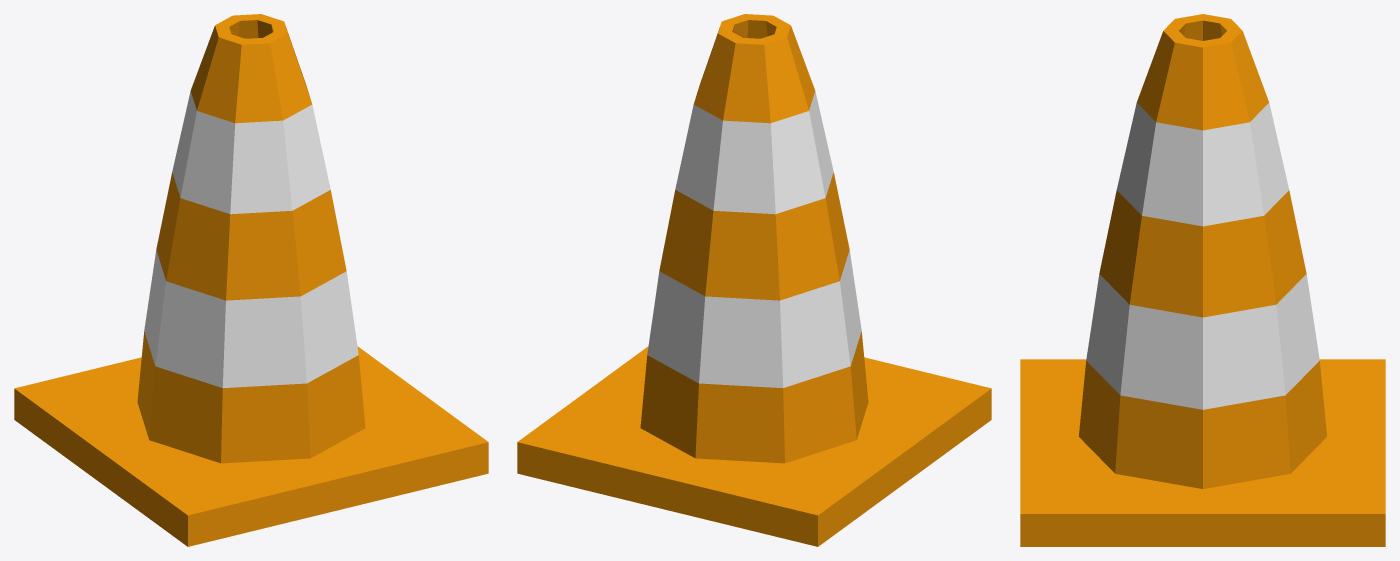
The model's file is road_cone.gltf.
3 renders of one model, left to right at view 1: azimuth 30°, elevation 25°; view 2: azimuth 150°, elevation 25°; view 3: azimuth 270°, elevation 25°, orthographic. The views are drawn at different scales.
Parts seen in each view (by area): view 1: Plot; view 2: Plot; view 3: Plot.
Boxes of the visible parts, x1,y1,x2,y2 form: Plot: (14, 14, 488, 546); Plot: (517, 14, 991, 546); Plot: (1020, 14, 1385, 546).
Size of the model in its own units: 2 by 2.65 by 2.
2 materials, 2 textured.
